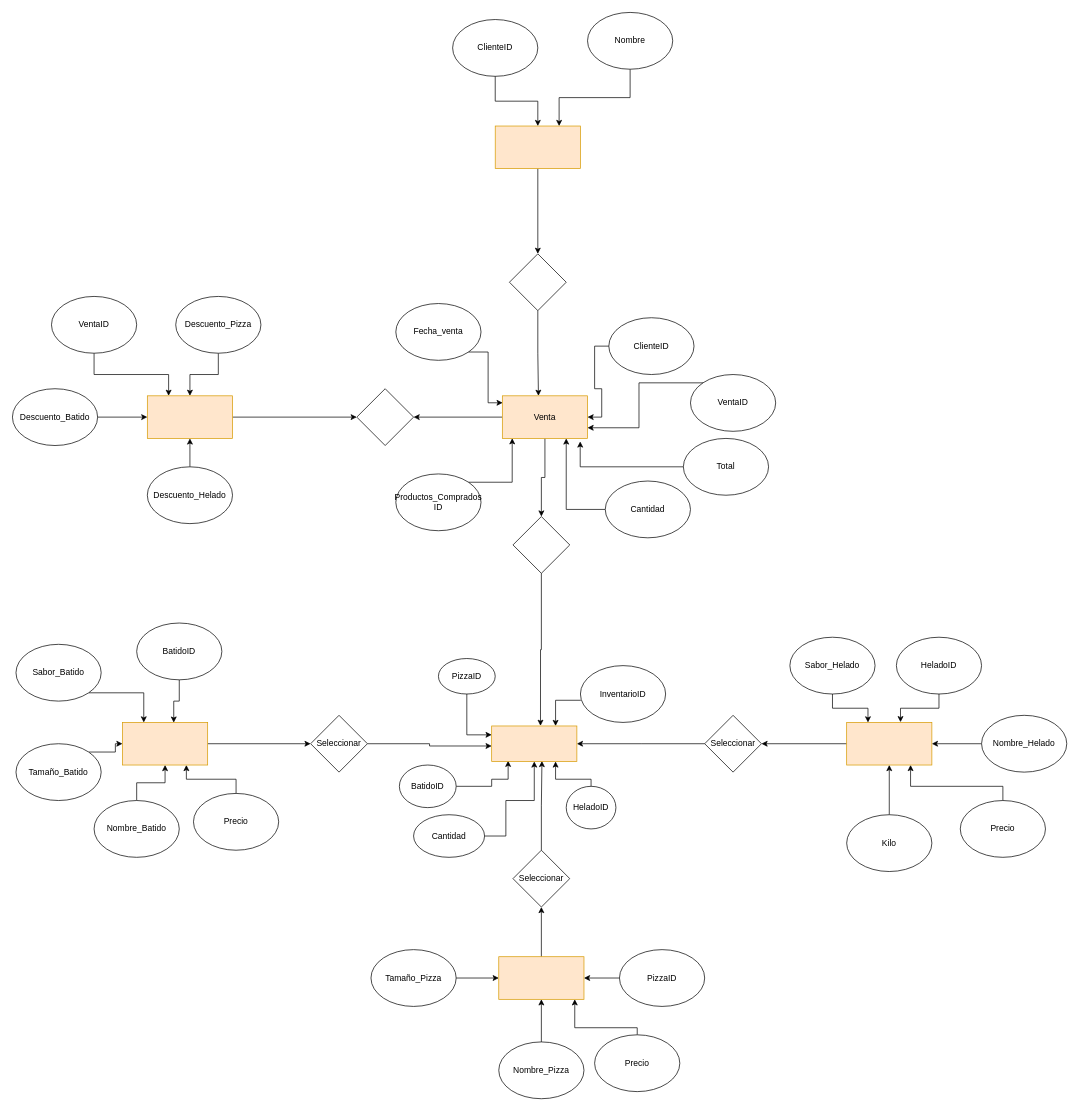
This 1079x1111 diagram has some shape labels left out. Here are the shapes that lost their labels. From the top down, the box of each, then its label:
(495, 125, 580, 169): Cliente
(509, 253, 566, 311): Pedir
(147, 395, 233, 438): Descuento
(356, 388, 414, 446): Tienee
(512, 516, 570, 573): Tiene
(122, 722, 208, 765): Batido
(491, 725, 577, 761): Inventario
(846, 722, 932, 765): Helado
(498, 956, 584, 999): Pizza
